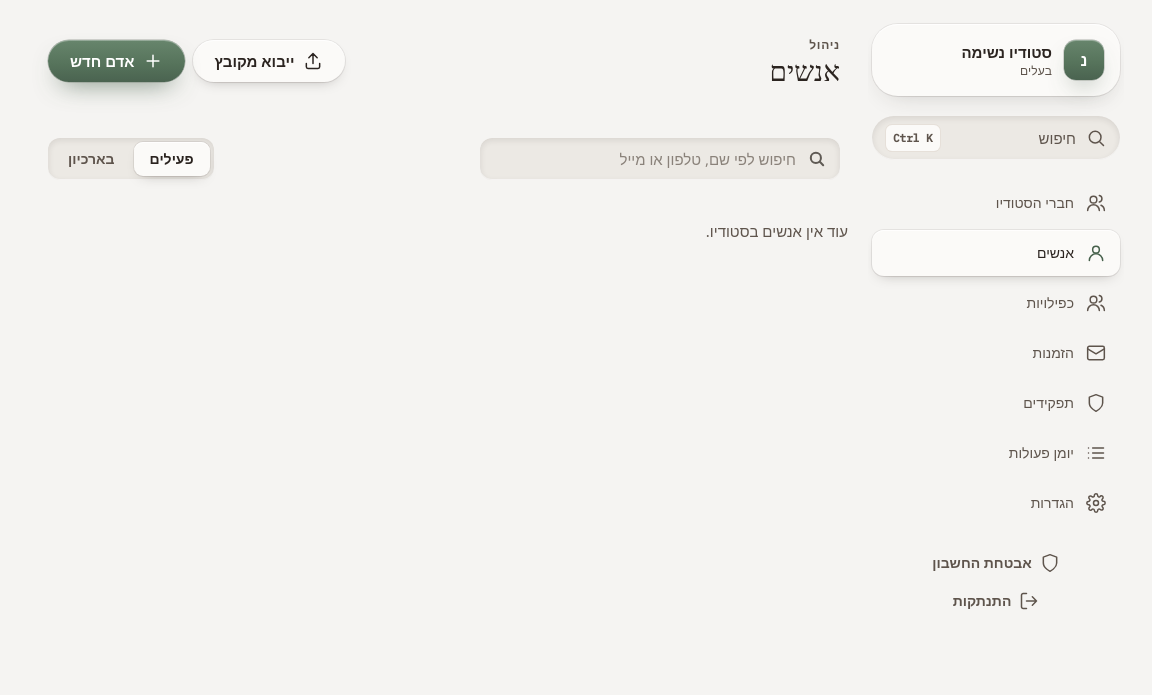
Test: people list › shows an invalid phone on its field
Click the button "אדם חדש" at coordinates (116, 61), box [48, 40, 184, 82]
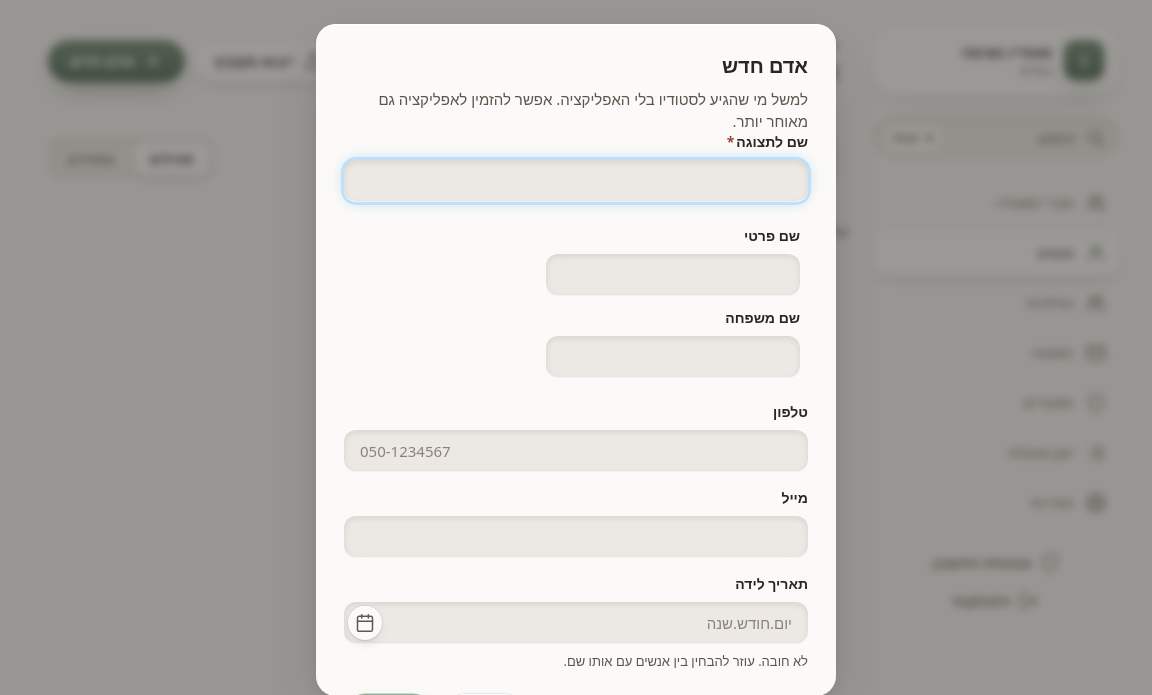
Type "דן" into the field labelled "שם לתצוגה*" at coordinates (576, 181), box [344, 160, 808, 202]
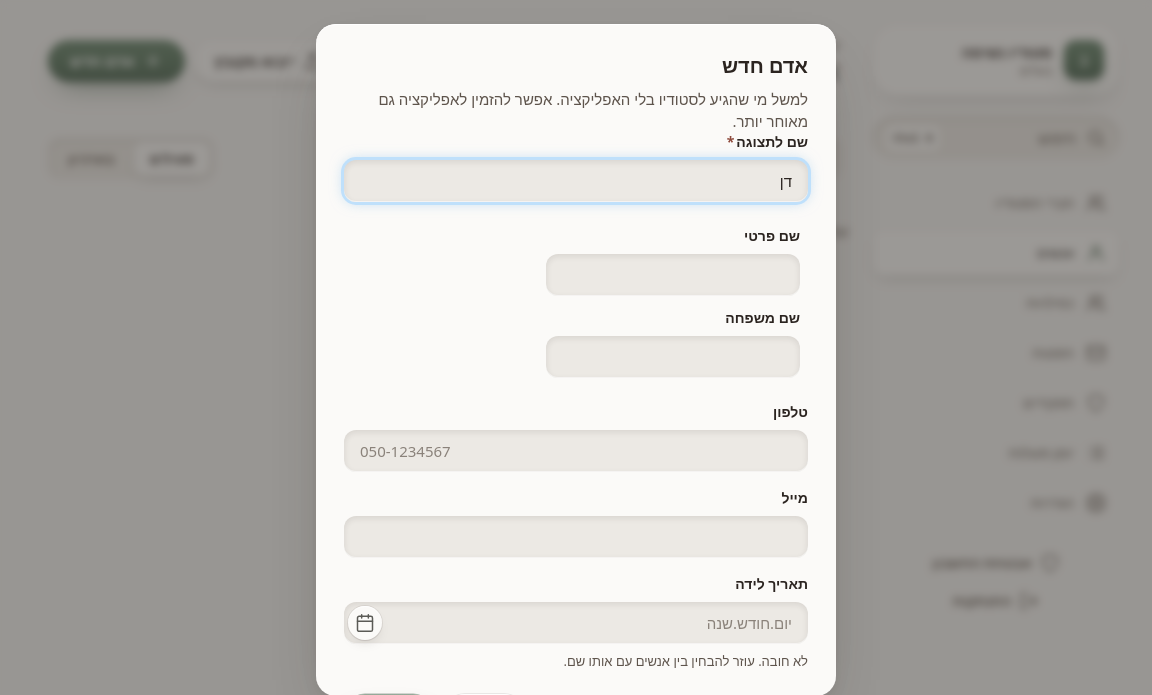
Type "123" into the field labelled "טלפון" at coordinates (576, 451), box [344, 430, 808, 472]
(page scrolled)
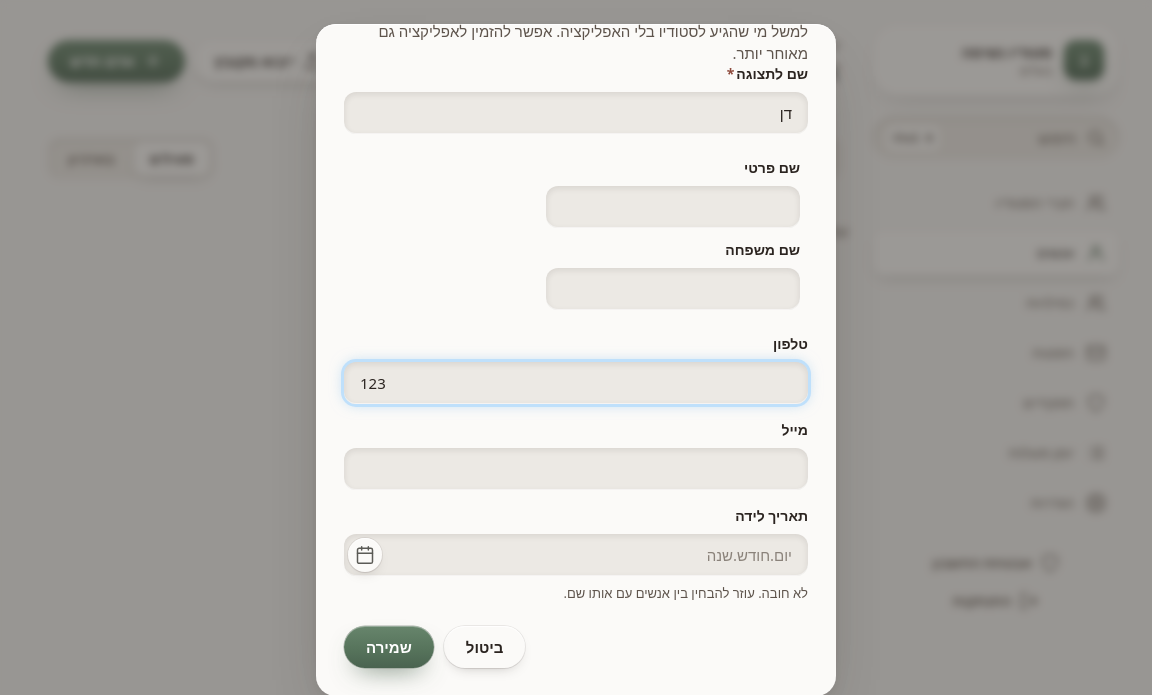
Click the button "שמירה" at coordinates (389, 647), box [344, 626, 434, 668]
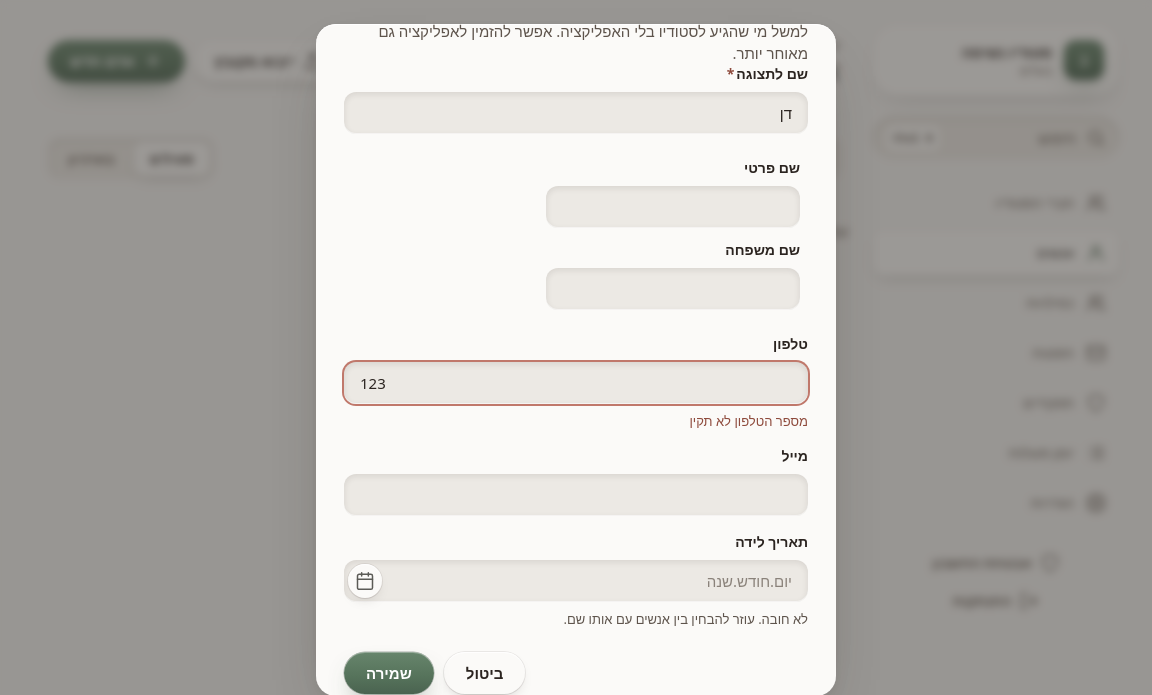
Expected: the text "מספר הטלפון לא תקין" is shown, [689, 412, 808, 430]
